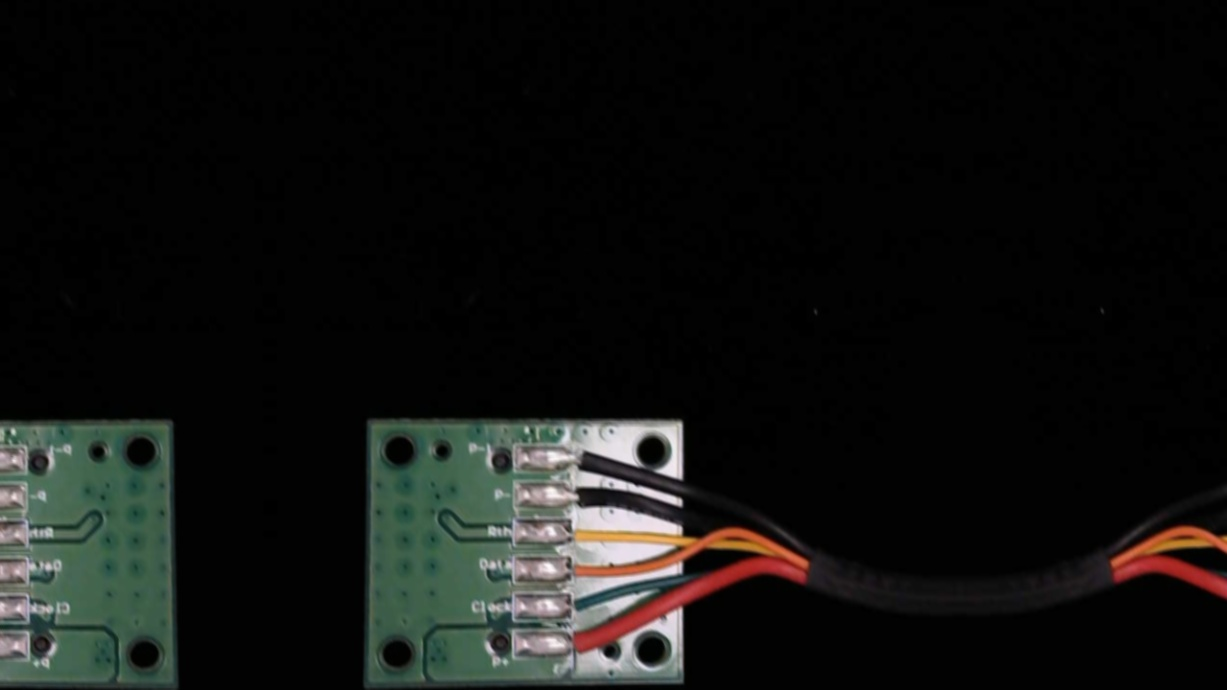Black: (556, 483, 610, 509)
Black1: (557, 445, 611, 473)
Green: (554, 591, 604, 621)
Orange: (556, 554, 606, 585)
Red: (553, 632, 604, 657)
Yellow: (558, 518, 612, 548)
